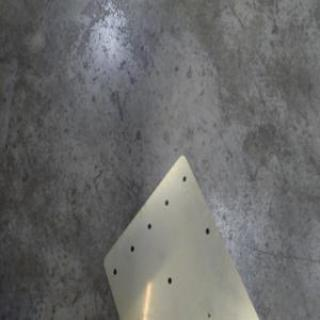MetalSheettrack_idkeyframe: (101, 148, 265, 319)
